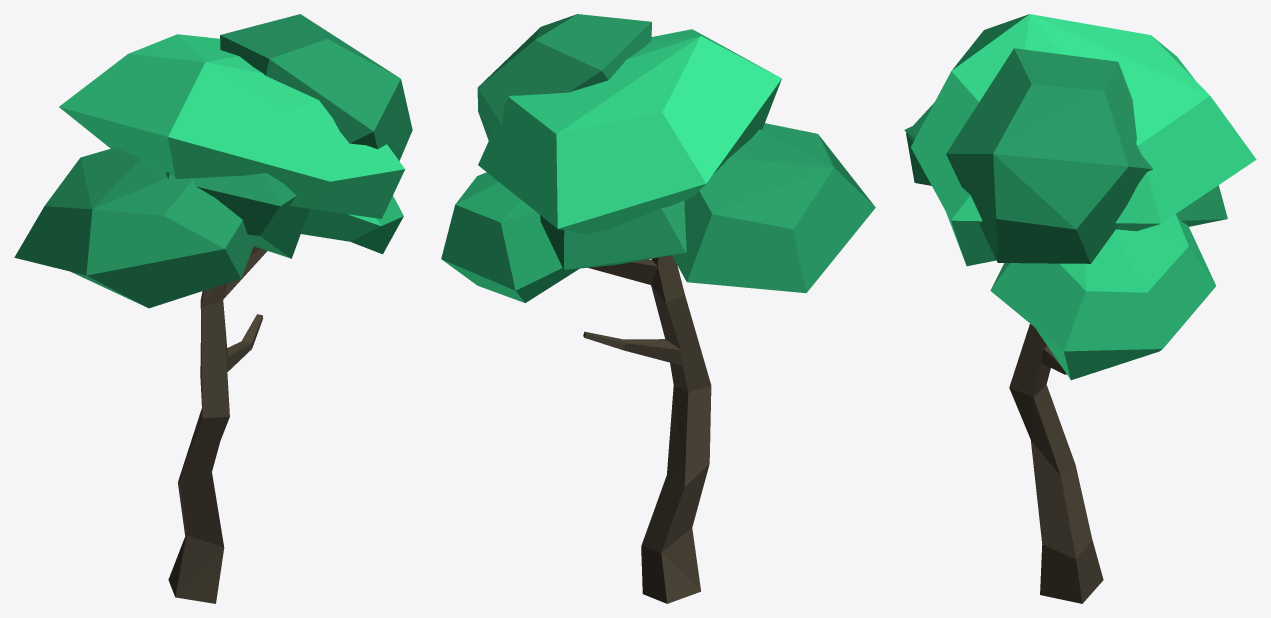
File: tree2.fbx
The picture shows the model from 3 angles, left to right: view 1: azimuth 30°, elevation 25°; view 2: azimuth 150°, elevation 25°; view 3: azimuth 270°, elevation 25°; orthographic projection. The views are drawn at different scales.
Parts seen in each view (by area): view 1: Sphere.001, Cube; view 2: Sphere.001, Cube; view 3: Sphere.001, Cube.
Part boxes in pixels (x1=…): Sphere.001: x1=14, y1=14, x2=412, y2=308; Cube: x1=168, y1=246, x2=267, y2=603; Sphere.001: x1=441, y1=14, x2=875, y2=302; Cube: x1=583, y1=255, x2=711, y2=603; Sphere.001: x1=904, y1=14, x2=1256, y2=380; Cube: x1=1009, y1=324, x2=1103, y2=603.
Size of the model in its own units: 322 by 464 by 259.
